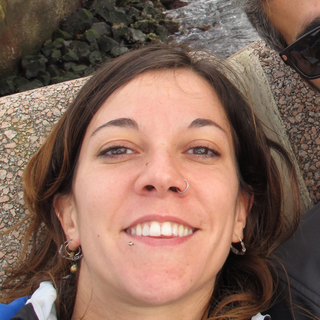eye: (95, 140, 143, 163), (178, 140, 225, 163)
